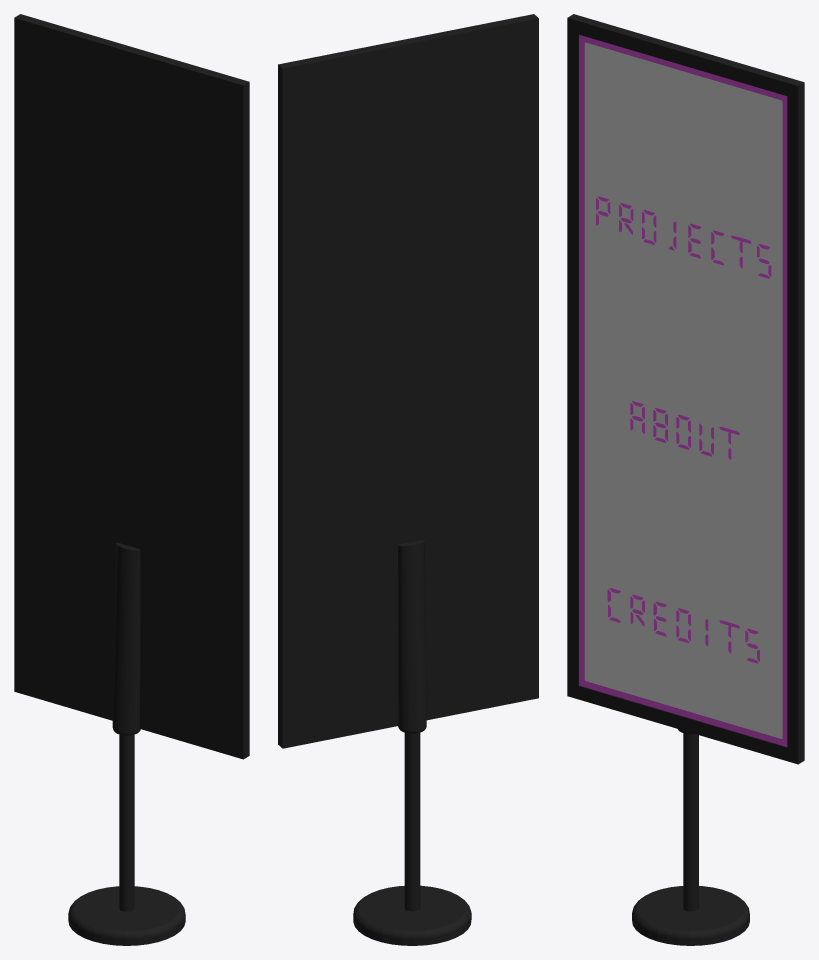
File: Tvs.glb
3 views of the same model, side by side, from view 1: azimuth 90°, elevation 25°; view 2: azimuth 150°, elevation 25°; view 3: azimuth 270°, elevation 25° (orthographic).
Visible parts, largest first — view 1: TV_MENU; view 2: TV_MENU; view 3: tela1, TV_MENU, tela2.
Boxes of the visible parts, bbox=[...] form: TV_MENU: bbox=[14, 14, 249, 945]; TV_MENU: bbox=[278, 14, 538, 945]; tela1: bbox=[584, 42, 782, 738]; TV_MENU: bbox=[567, 14, 804, 945]; tela2: bbox=[579, 34, 787, 746].
Size of what is drawn, in the model's own units: 2.01 by 11.34 by 2.79.
3 materials, 1 textured.
